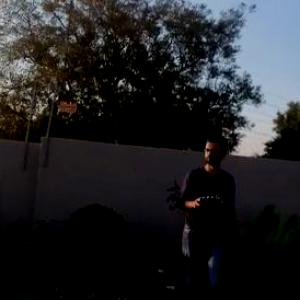follow: (174, 129, 242, 299)
